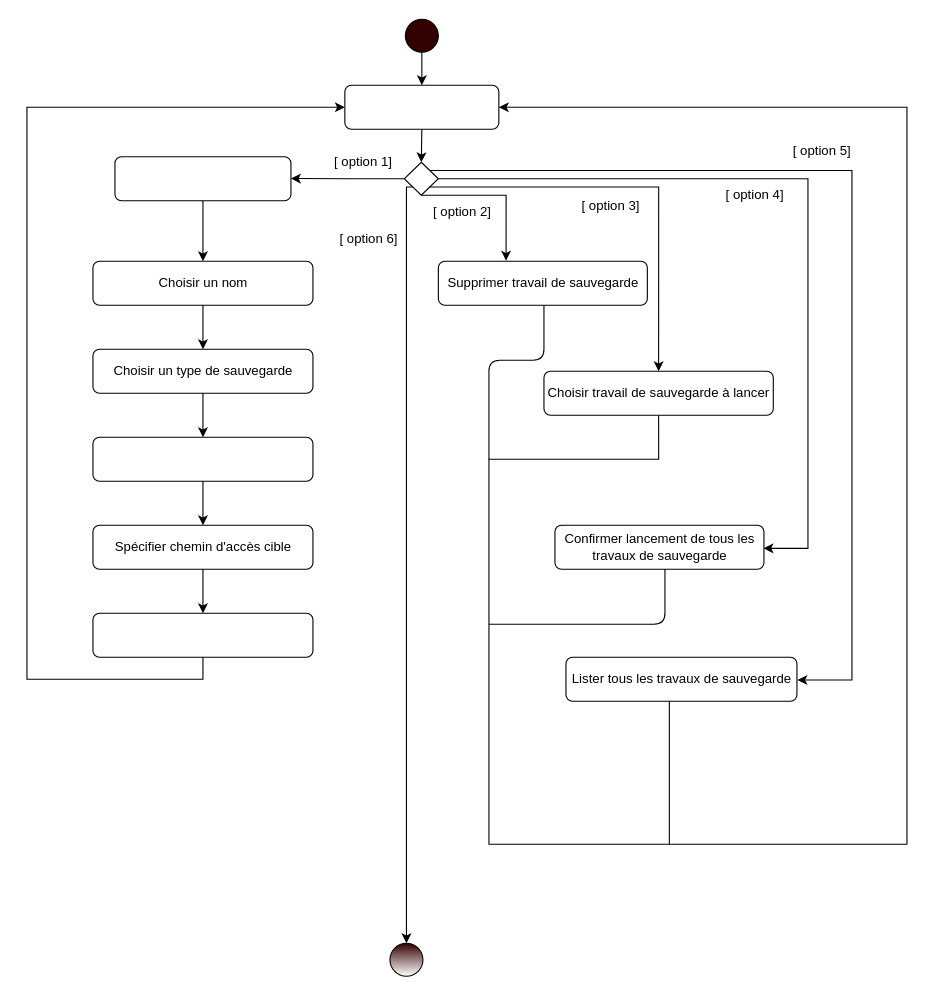
The diagram is 935 pixels wide and 996 high, and some of its shapes have lost their labels. The shapes that lost their labels are listed below. From the top down, each one's centre as x and y in pixels, then its label:
point 421,106: Choisir option
point 202,178: Créer travail de sauvegarde
point 202,458: Spécifier chemin d'accès source
point 202,634: Valider étape de validation
